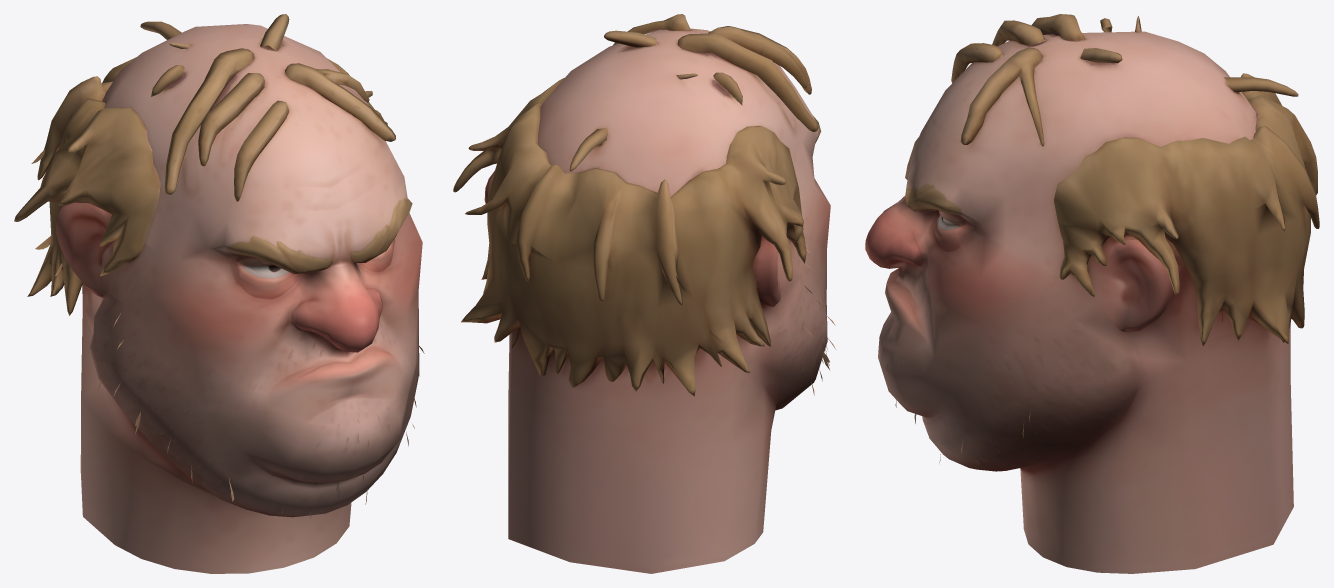
The model's file is player_head_moe_peel.fbx.
3 renders of one model, left to right at view 1: azimuth 30°, elevation 25°; view 2: azimuth 150°, elevation 25°; view 3: azimuth 270°, elevation 25°, orthographic. The views are drawn at different scales.
Visible parts, largest first — view 1: tripo_node_12e685ae; view 2: tripo_node_12e685ae; view 3: tripo_node_12e685ae.
Part boxes in pixels (left/top/right/bottom): tripo_node_12e685ae: left=14, top=14, right=424, bottom=573; tripo_node_12e685ae: left=453, top=14, right=835, bottom=573; tripo_node_12e685ae: left=865, top=14, right=1319, bottom=573.
Bounding box in the file's own units: 0.7573 × 0.9995 × 0.8257.
1 material, 1 textured.
